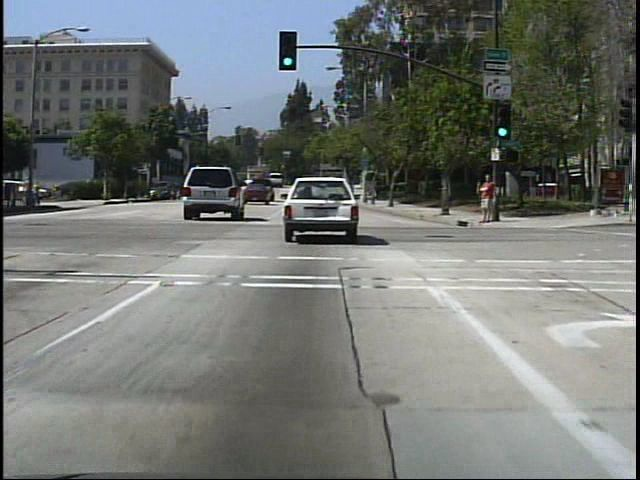person: (471, 170, 498, 226), (25, 179, 37, 211), (34, 181, 44, 207)
